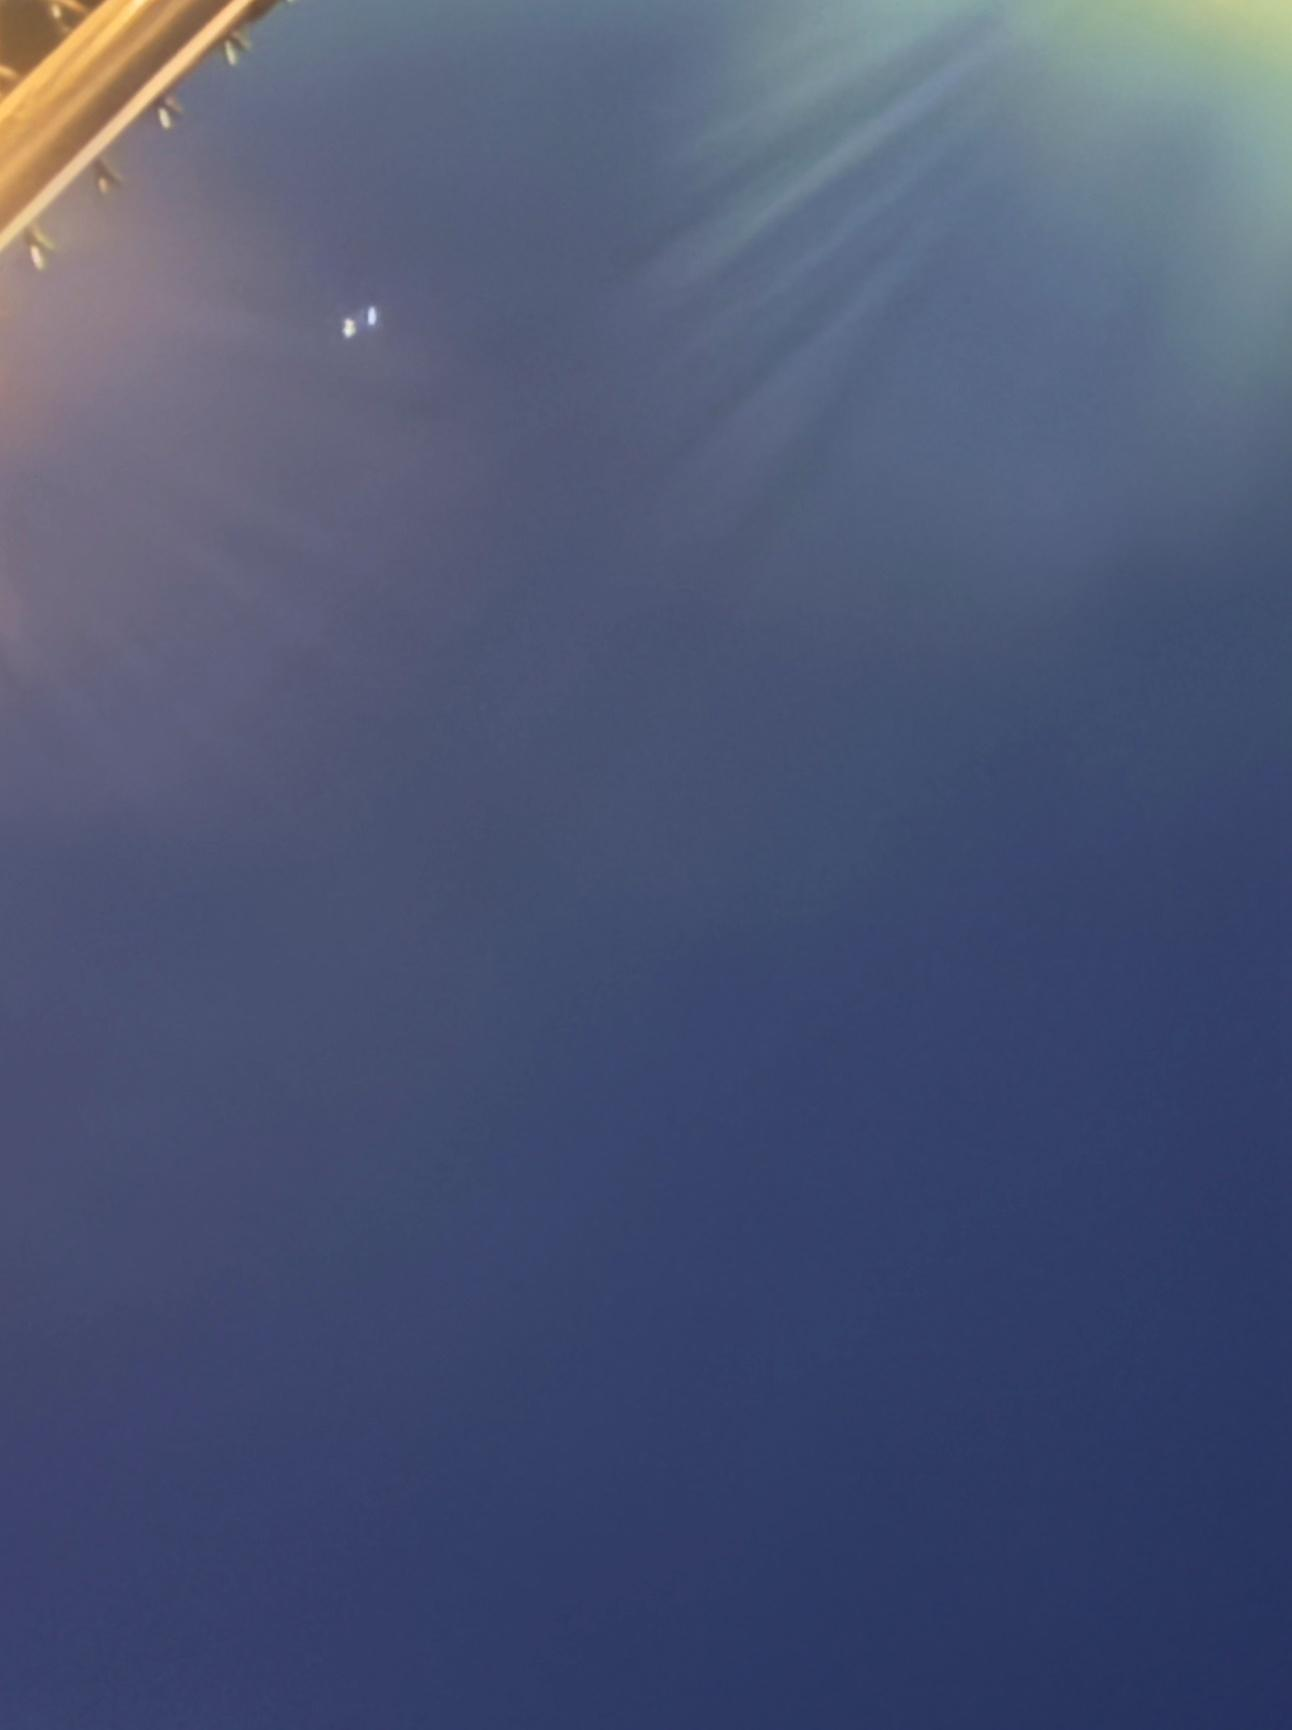Plane: (324, 281, 413, 379)
